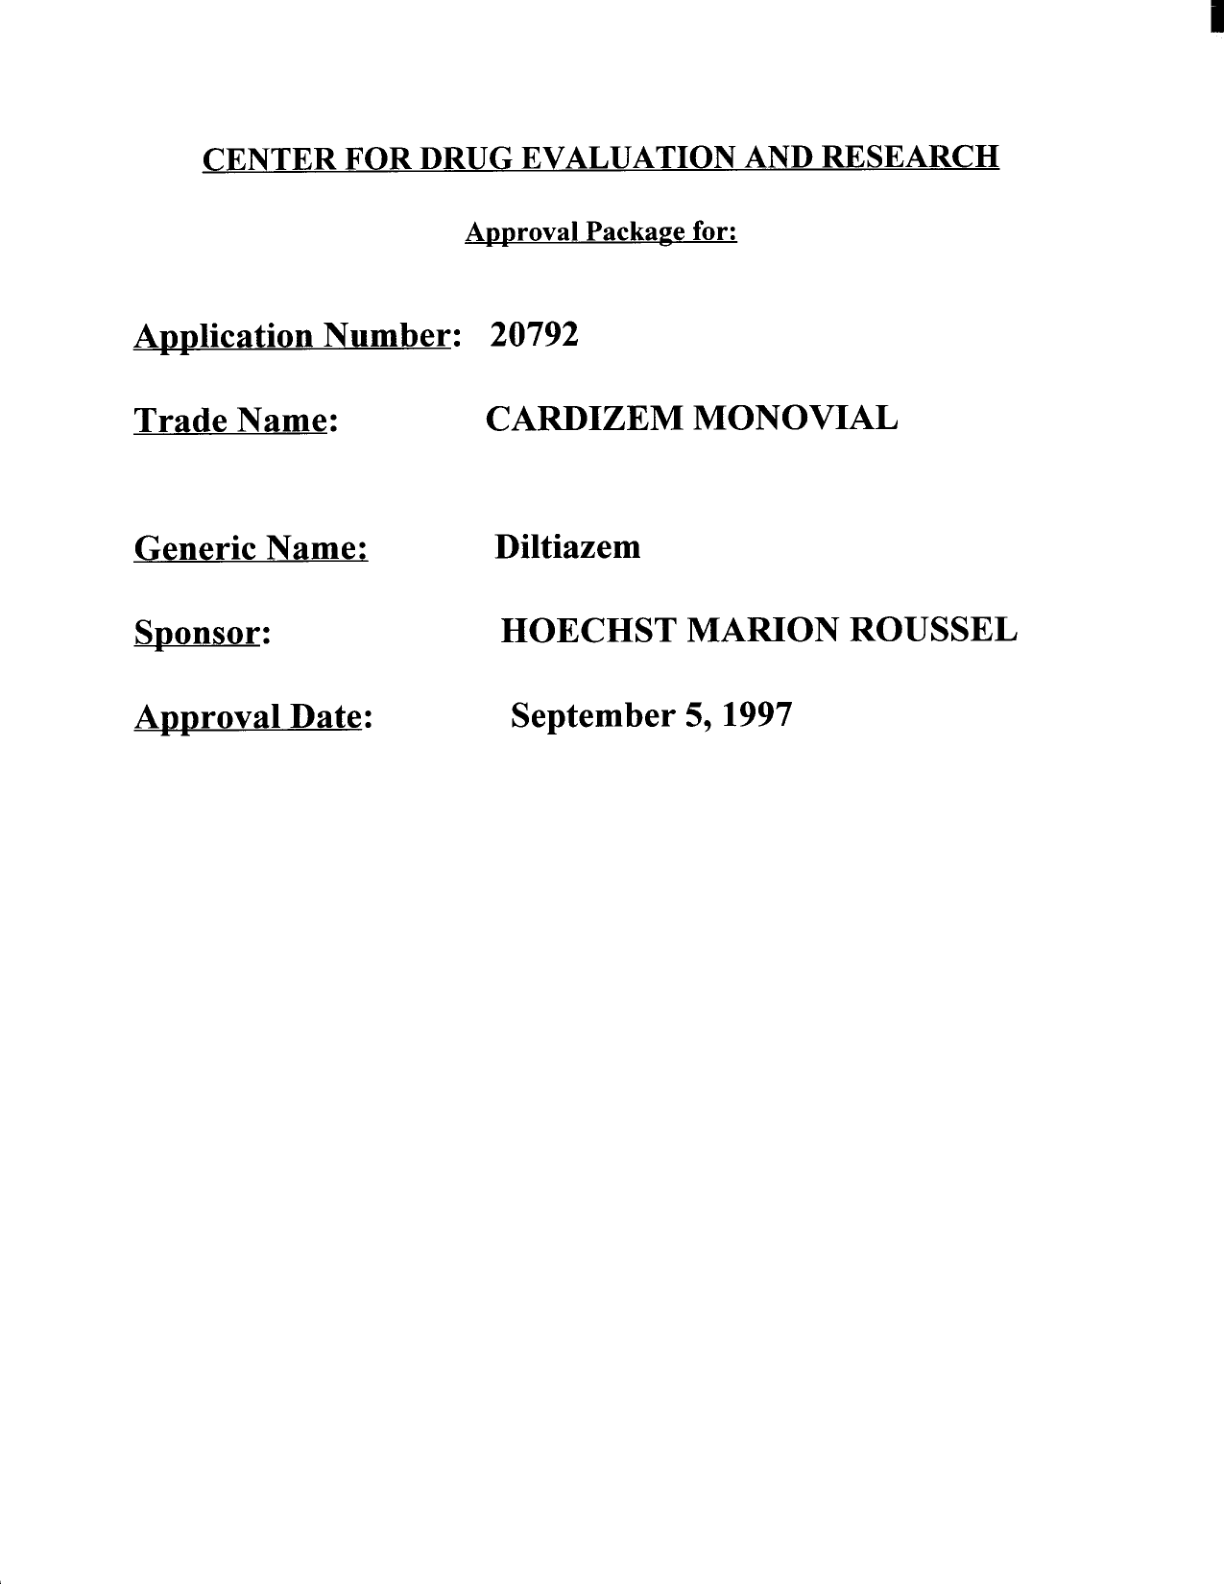nolines: (129, 318, 1021, 739)
